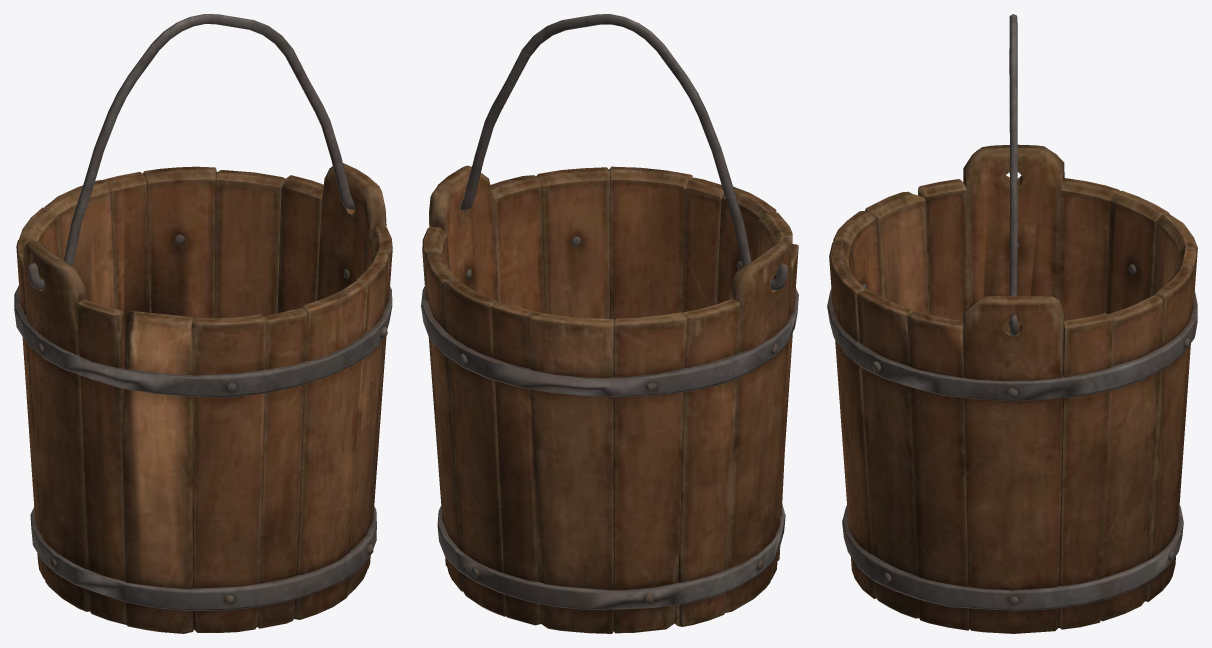
The model's file is wooden_bucket_01.glb.
3 renders of one model, left to right at view 1: azimuth 30°, elevation 25°; view 2: azimuth 150°, elevation 25°; view 3: azimuth 270°, elevation 25°, orthographic.
Parts seen in each view (by area): view 1: wooden_bucket_01, wooden_bucket_01_handle; view 2: wooden_bucket_01, wooden_bucket_01_handle; view 3: wooden_bucket_01, wooden_bucket_01_handle.
Boxes of the visible parts, x1,y1,x2,y2 form: wooden_bucket_01: (14, 163, 392, 633); wooden_bucket_01_handle: (28, 14, 376, 289); wooden_bucket_01: (421, 165, 798, 633); wooden_bucket_01_handle: (437, 14, 787, 290); wooden_bucket_01: (827, 144, 1197, 633); wooden_bucket_01_handle: (1009, 14, 1017, 335).
Bounding box in the file's own units: 0.367 × 0.5499 × 0.3419.
Materials: 1 (1 with a texture image).
